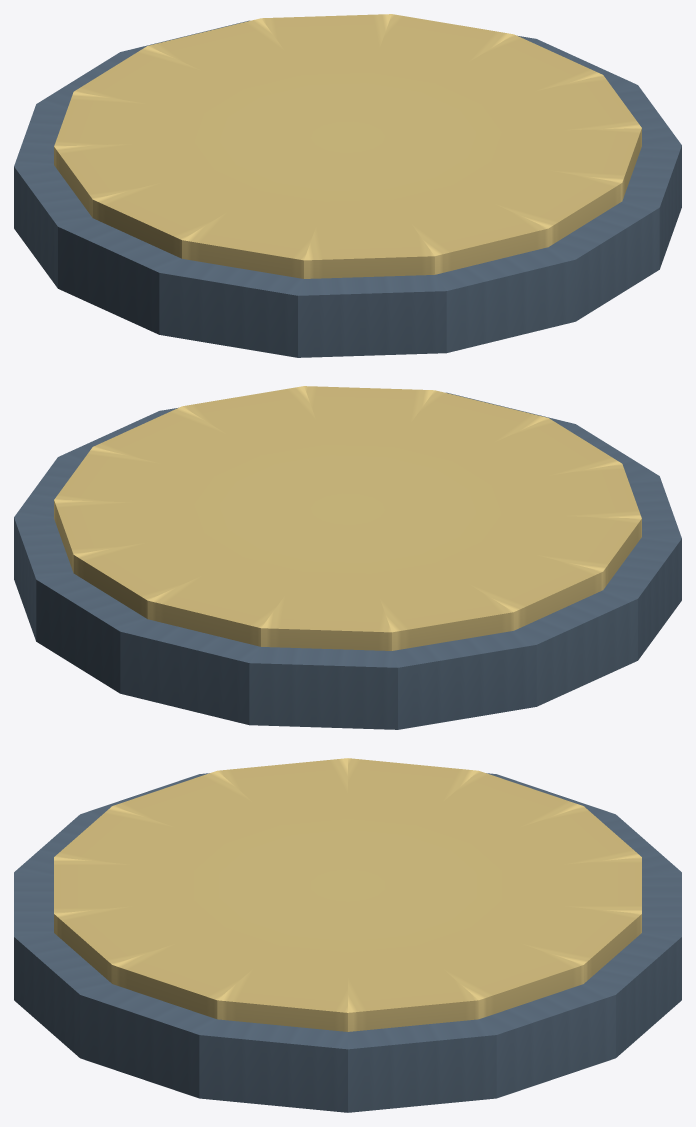
Rendered from jump_platform.glb.
The picture shows the model from 3 angles, top to bottom: view 1: azimuth 30°, elevation 25°; view 2: azimuth 150°, elevation 25°; view 3: azimuth 270°, elevation 25°; orthographic projection. The views are drawn at different scales.
Visible parts, largest first — view 1: jump_platform; view 2: jump_platform; view 3: jump_platform.
Part boxes in pixels (x1=…): jump_platform: x1=14, y1=14, x2=681, y2=357; jump_platform: x1=14, y1=386, x2=681, y2=729; jump_platform: x1=14, y1=758, x2=681, y2=1112.
Bounding box in the file's own units: 4.4 × 0.585 × 4.29.
Materials: 1 (1 with a texture image).
